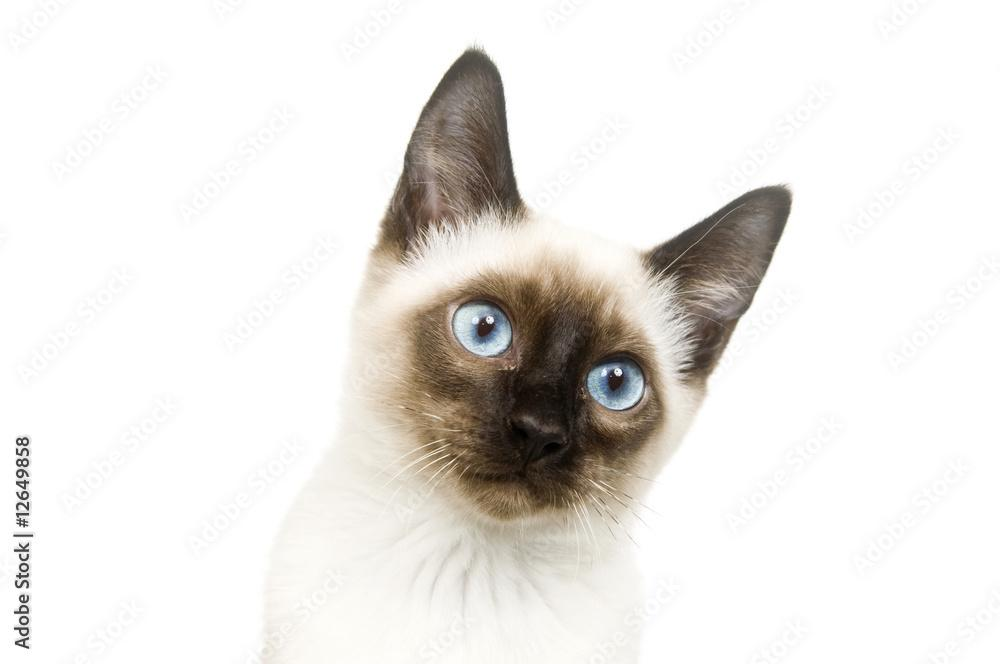siamese: (340, 45, 801, 544)
